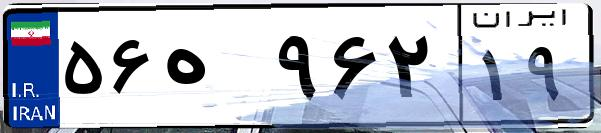1: (475, 38, 525, 113)
2: (385, 28, 445, 110)
5: (57, 26, 110, 100)
6: (330, 28, 385, 110), (110, 28, 158, 98)
9: (270, 28, 330, 110), (525, 38, 570, 115)
ه: (158, 20, 270, 120)
